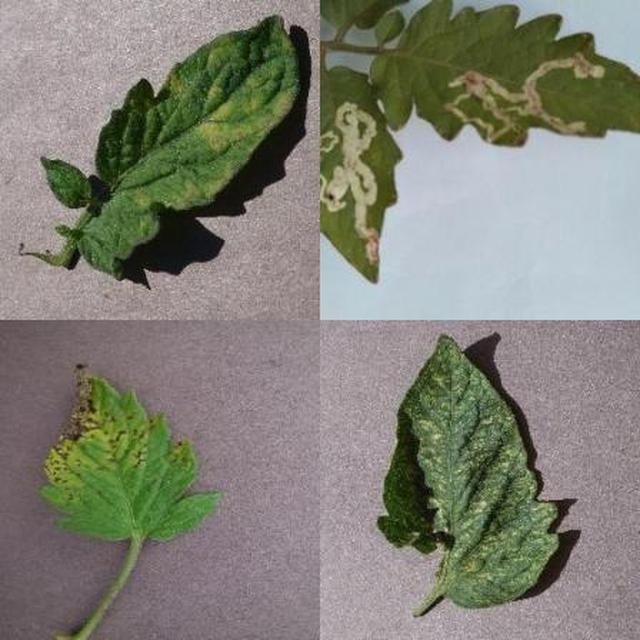Leaf Mold: (118, 105, 640, 640)
